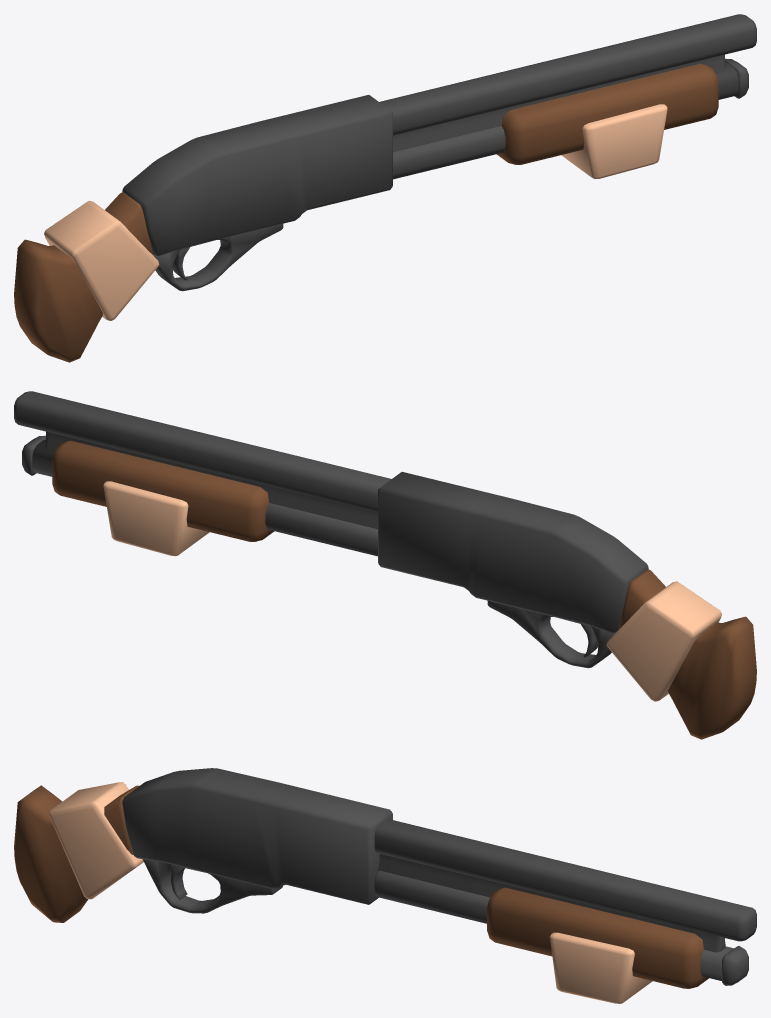
File: SawedOff_Pump_Shotgun.fbx
3 renders of one model, top to bottom at view 1: azimuth 30°, elevation 25°; view 2: azimuth 150°, elevation 25°; view 3: azimuth 330°, elevation 25°, orthographic.
Parts seen in each view (by area): view 1: Cube.032, Cube.033, Pump, Cube.039, Cube.043, Hand, Cube.035, Cube.034, Cube.040; view 2: Cube.032, Cube.033, Pump, Cube.039, Cube.043, Hand, Cube.035, Cube.034, Cube.040; view 3: Cube.032, Cube.033, Pump, Cube.039, Cube.043, Hand, Cube.035, Cube.034, Cube.040, Cube.036.
Part boxes in pixels (x1,y1,x2,y2): Cube.032: (122,95,392,256); Cube.033: (379,14,756,135); Pump: (496,63,718,164); Cube.039: (14,192,153,362); Cube.043: (44,200,159,320); Hand: (561,104,667,179); Cube.035: (393,63,738,179); Cube.034: (393,54,725,152); Cube.040: (153,224,283,291); Cube.032: (378,472,648,633); Cube.033: (14,391,391,512); Pump: (52,440,274,541); Cube.039: (618,569,756,739); Cube.043: (606,581,721,701); Hand: (103,481,209,556); Cube.035: (32,440,377,556); Cube.034: (45,431,377,529); Cube.040: (487,601,617,668); Cube.032: (122,768,392,904); Cube.033: (374,819,756,941); Pump: (487,887,708,988); Cube.039: (14,785,139,922); Cube.043: (49,782,143,899); Hand: (549,932,652,1003); Cube.035: (374,870,733,980); Cube.034: (378,854,725,952); Cube.040: (143,859,282,913); Cube.036: (722,946,748,985).
Bounding box in the file's own units: 323 × 74.69 × 30.26.
